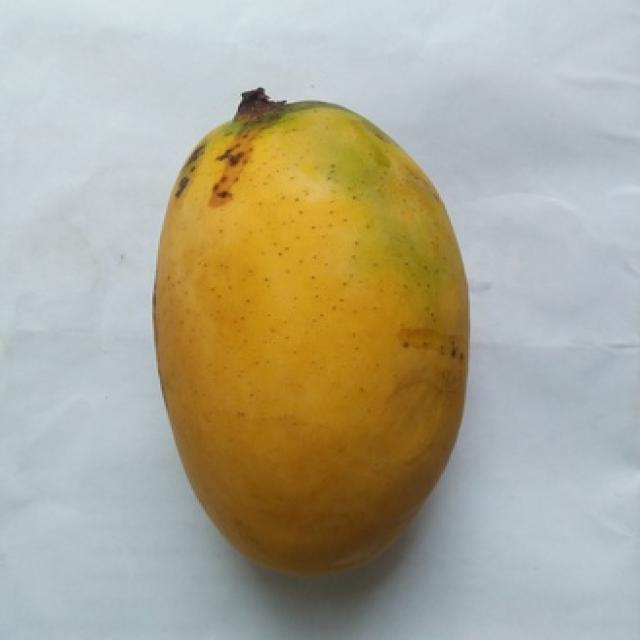Mango: (152, 89, 466, 571)
